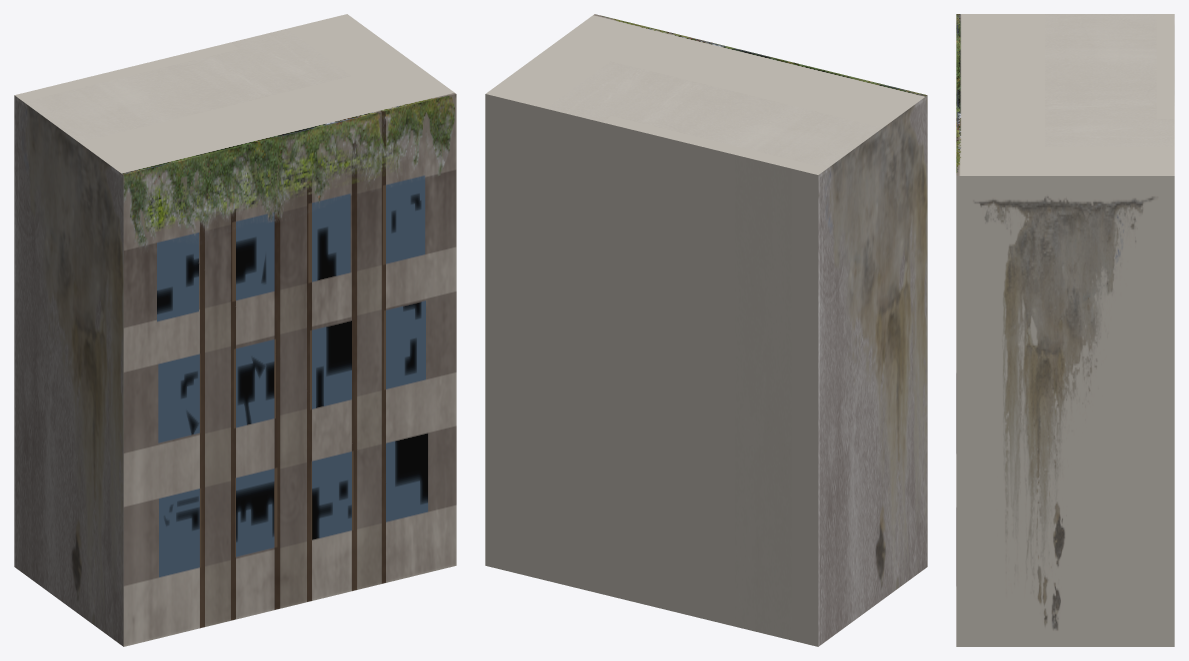
File: building level 1.dae
3 views of the same model, side by side, from view 1: azimuth 30°, elevation 25°; view 2: azimuth 150°, elevation 25°; view 3: azimuth 270°, elevation 25° (orthographic).
Visible parts, largest first — view 1: Cube; view 2: Cube; view 3: Cube.
Part boxes in pixels (x1=…): Cube: x1=14, y1=14, x2=456, y2=646; Cube: x1=485, y1=14, x2=927, y2=646; Cube: x1=956, y1=14, x2=1174, y2=646.
Bounding box in the file's own units: 4.53 × 2.58 × 6.14.
